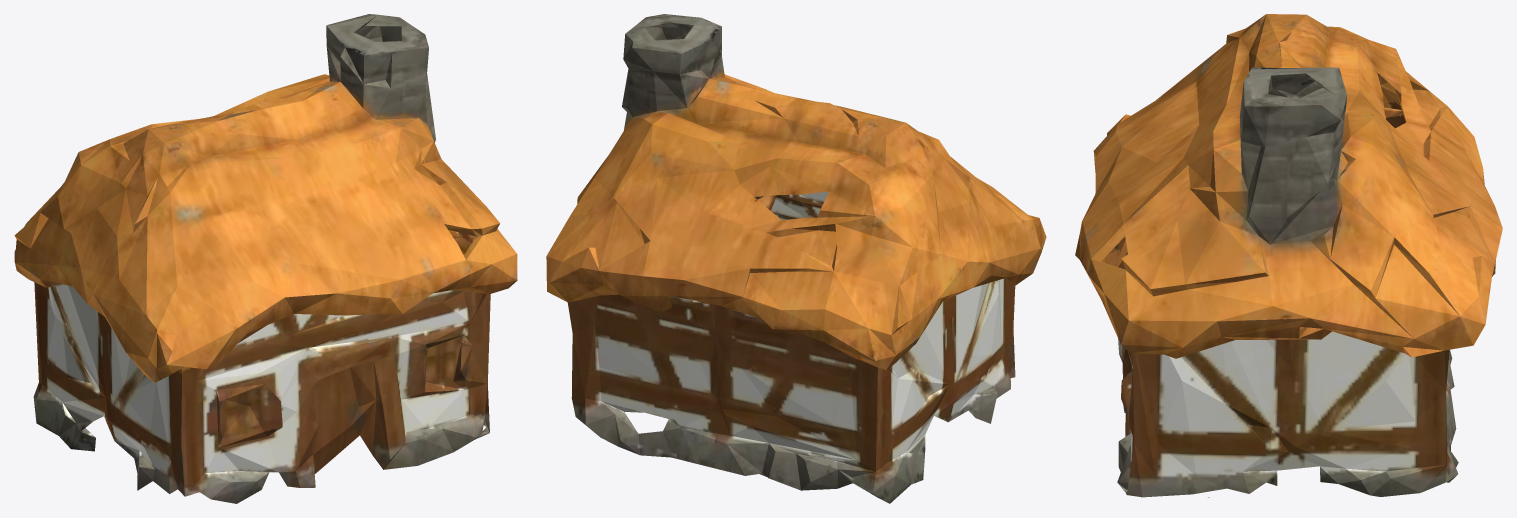
File: cottage-thatch.glb
The picture shows the model from 3 angles, left to right: view 1: azimuth 30°, elevation 25°; view 2: azimuth 150°, elevation 25°; view 3: azimuth 270°, elevation 25°; orthographic projection. The views are drawn at different scales.
Parts seen in each view (by area): view 1: cottage-thatch; view 2: cottage-thatch; view 3: cottage-thatch.
Part boxes in pixels (<box>): cottage-thatch: <box>14,14,517,503</box>; cottage-thatch: <box>546,14,1046,503</box>; cottage-thatch: <box>1075,14,1502,497</box>.
Size of the model in its own units: 6.37 by 5.97 by 5.67.
Materials: 1 (1 with a texture image).
